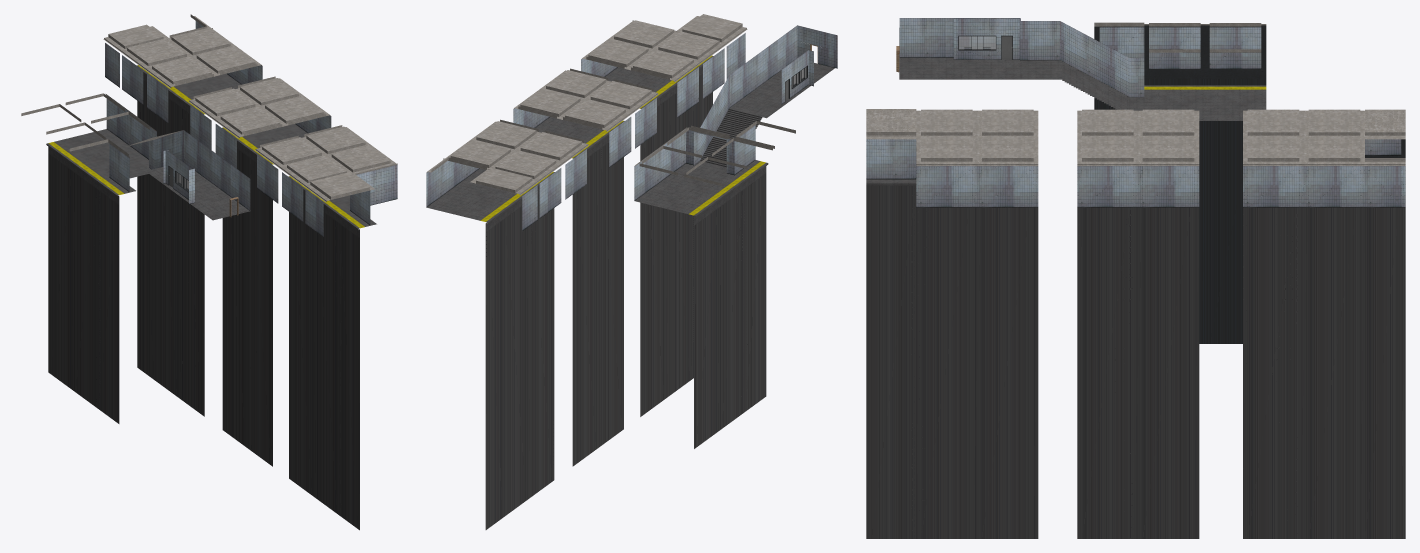
Rendered from Metro.glb.
3 renders of one model, left to right at view 1: azimuth 30°, elevation 25°; view 2: azimuth 150°, elevation 25°; view 3: azimuth 270°, elevation 25°, orthographic. The views are drawn at different scales.
Visible parts, largest first — view 1: St_02, SerwersP1_008, St, St_01, Estruc.001; view 2: St, SerwersP1_008, St_01, St_02, Estruc.001; view 3: St_02, St, St_01, SerwersP1_008, Estruc.001.
Boxes of the visible parts, x1,y1,x2,y2 form: St_02: (255,125,397,530); SerwersP1_008: (21,93,250,423); St: (103,14,262,416); St_01: (189,76,331,466); Estruc.001: (165,149,194,204); St: (426,119,588,529); SerwersP1_008: (634,25,837,448); St_01: (513,68,658,466); St_02: (581,14,747,416); Estruc.001: (781,50,813,104); St_02: (866,109,1038,538); St: (1243,109,1405,538); St_01: (1077,109,1199,538); SerwersP1_008: (899,18,1266,343); Estruc.001: (953,18,1020,59).
Bounding box in the file's own units: 34.28 × 50.3 × 55.3.
13 materials, 12 textured.
